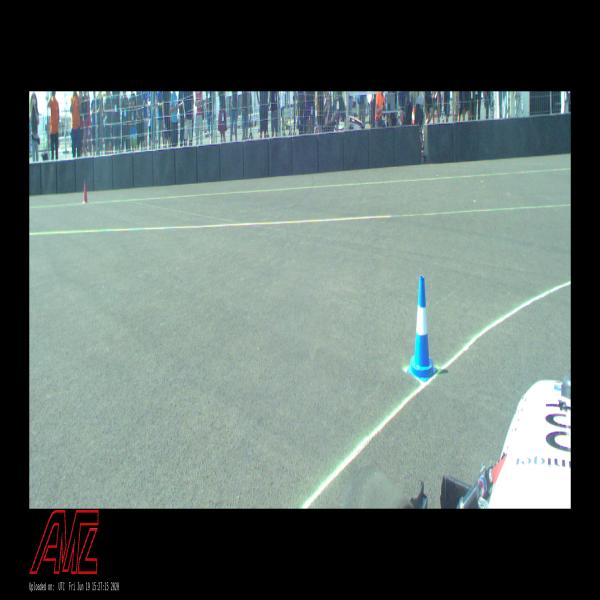blue_cone: (407, 276, 437, 382)
